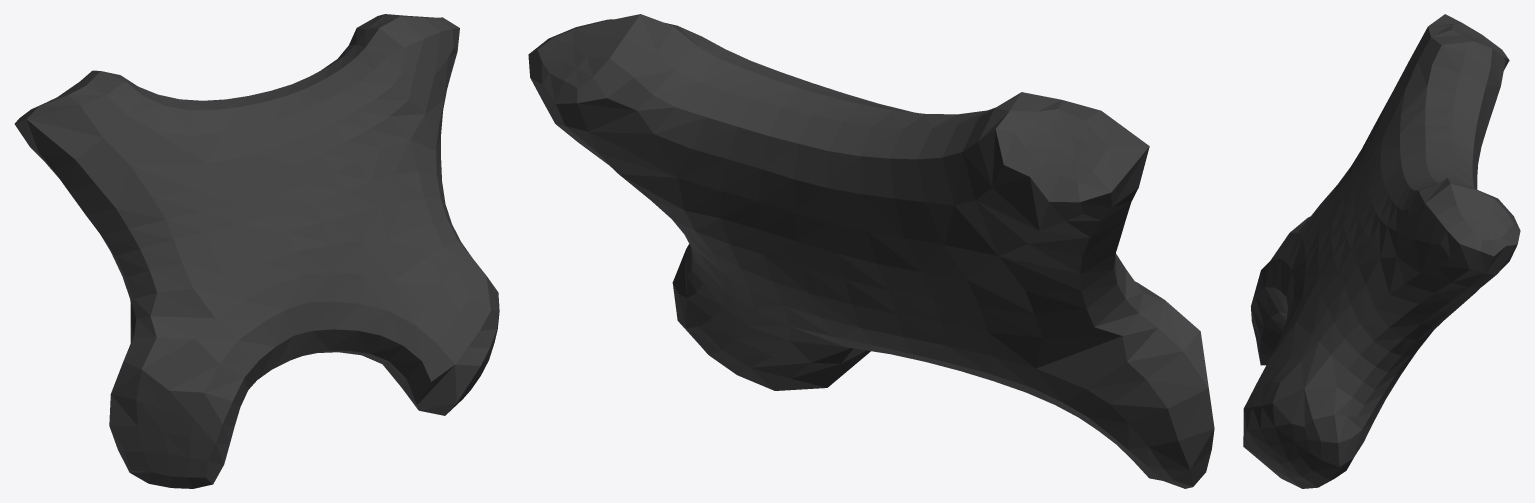
File: Interses_cruci.glb
The picture shows the model from 3 angles, left to right: view 1: azimuth 30°, elevation 25°; view 2: azimuth 150°, elevation 25°; view 3: azimuth 270°, elevation 25°; orthographic projection. The views are drawn at different scales.
Parts seen in each view (by area): view 1: Interses_cruci; view 2: Interses_cruci; view 3: Interses_cruci.
Part boxes in pixels (box(x1,y1,x2,y2)): Interses_cruci: box(14, 14, 499, 488); Interses_cruci: box(528, 14, 1214, 488); Interses_cruci: box(1243, 14, 1520, 488).
Bounding box in the file's own units: 0.8271 × 0.6035 × 0.4597.
Materials: 1 (1 with a texture image).
